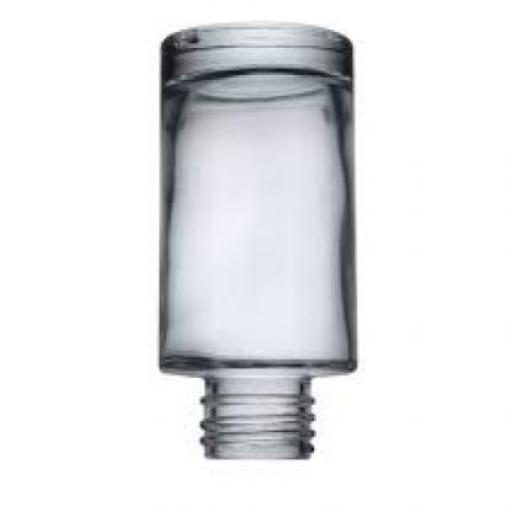glass: (164, 29, 357, 462)
